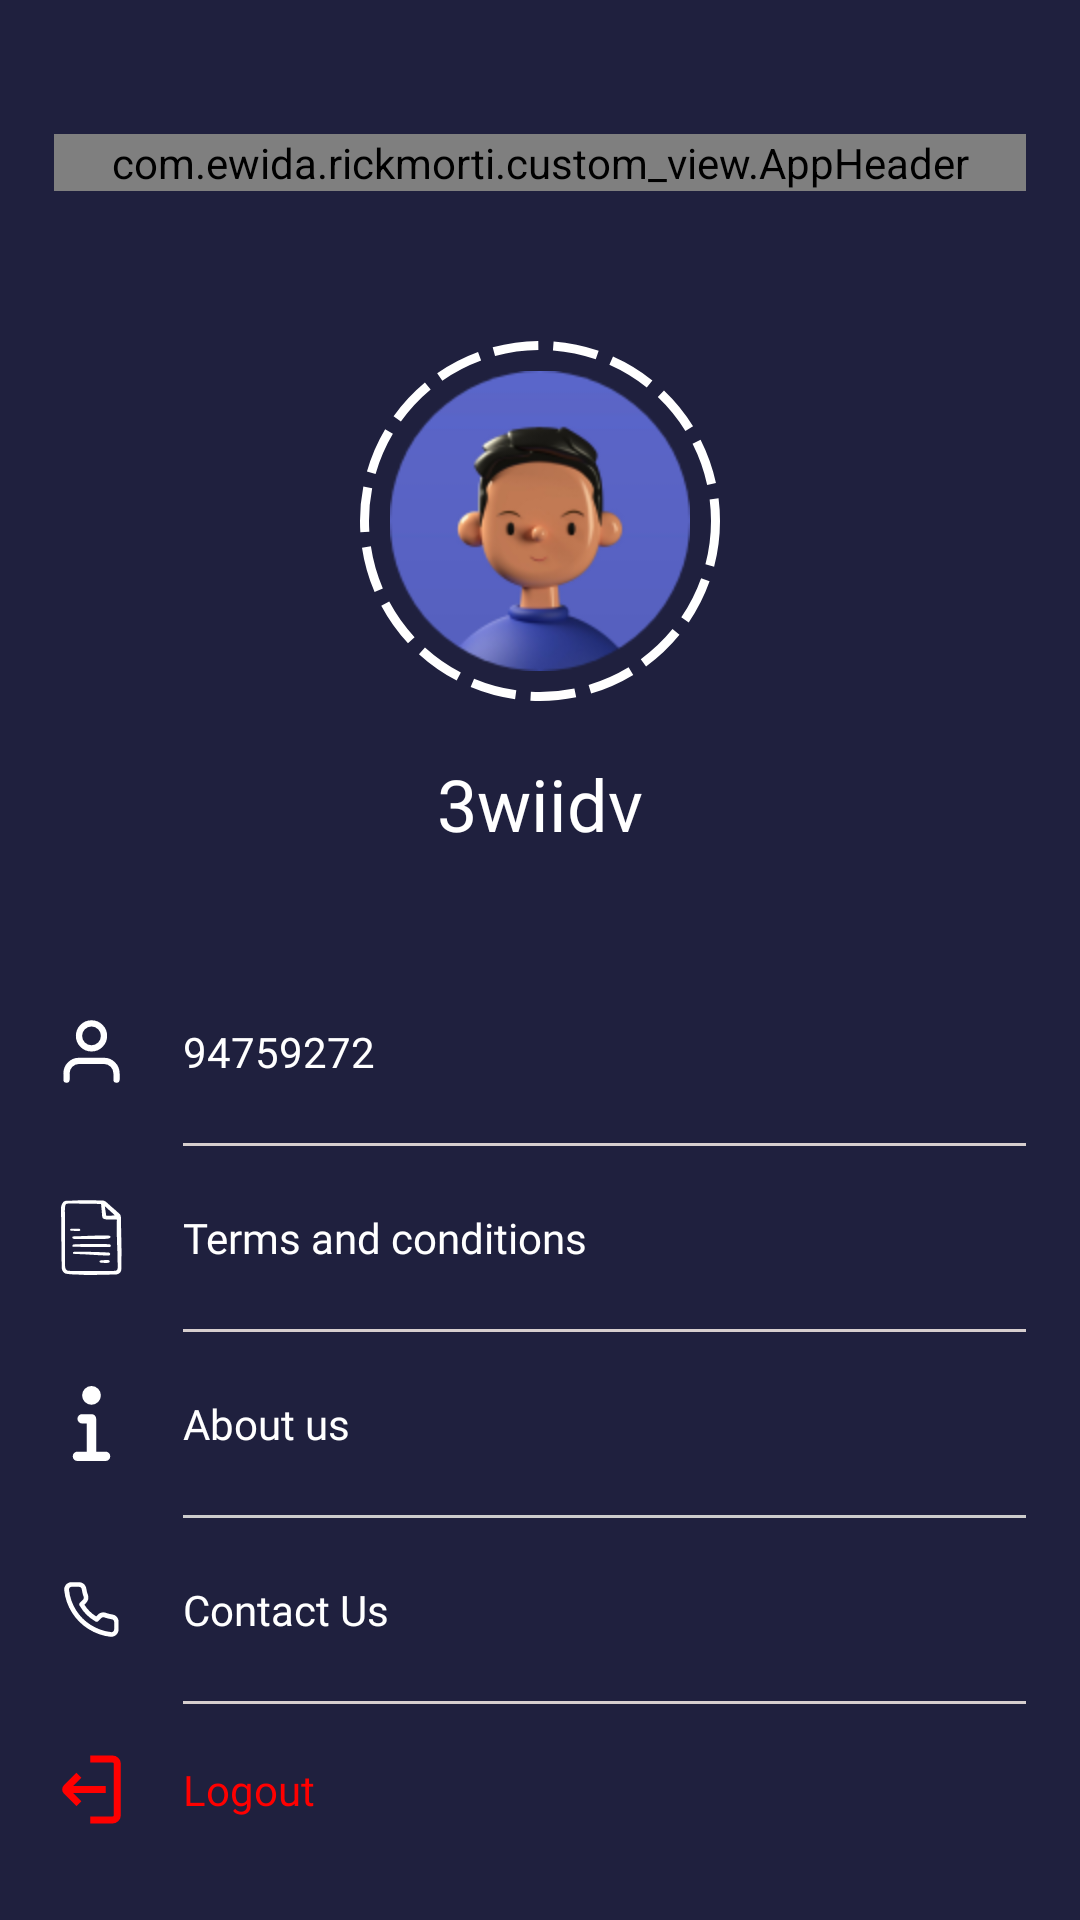

Icons on this 1080*1920 Android screen, each with the point to tap as (x,y):
user: (91,1051)
user place holder: (540,521)
